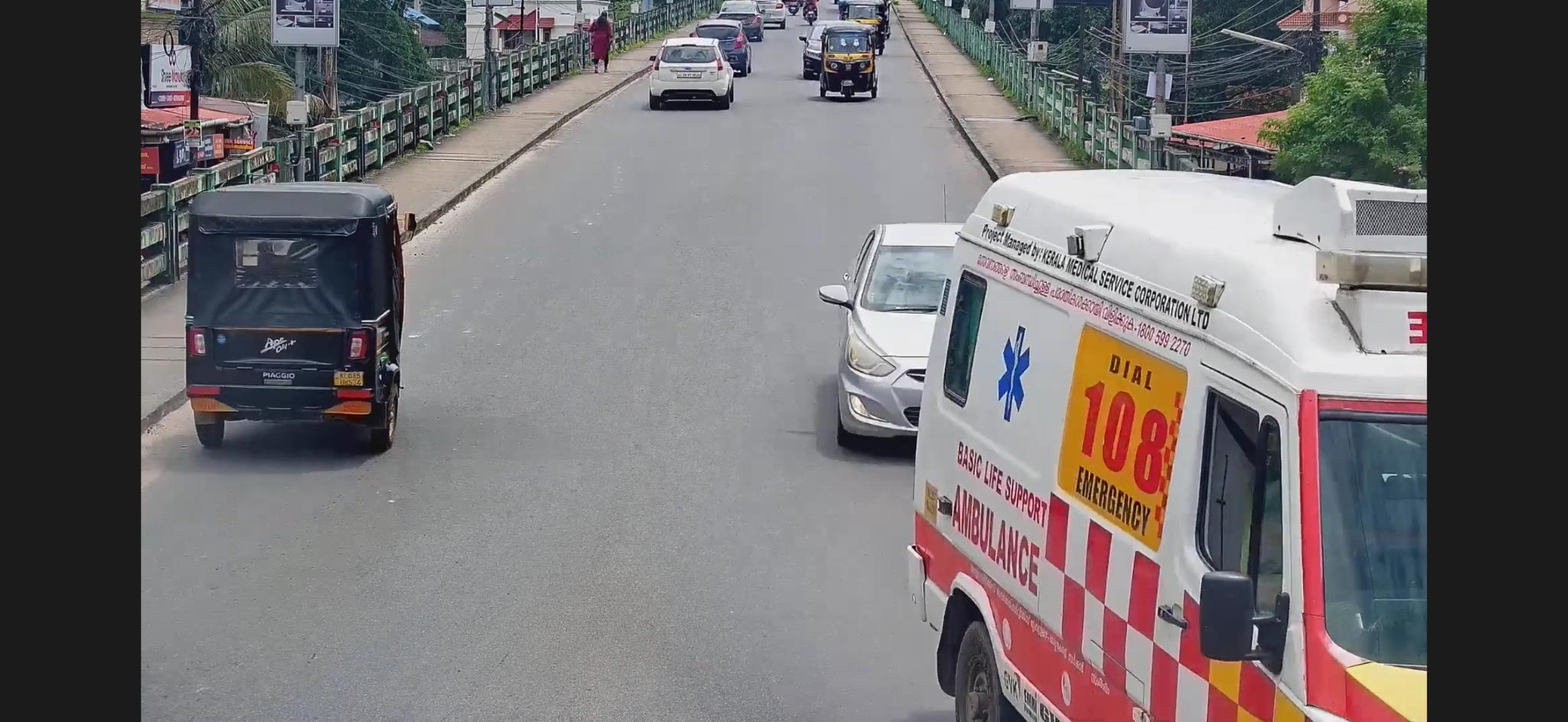ambulance: (904, 157, 1422, 720)
